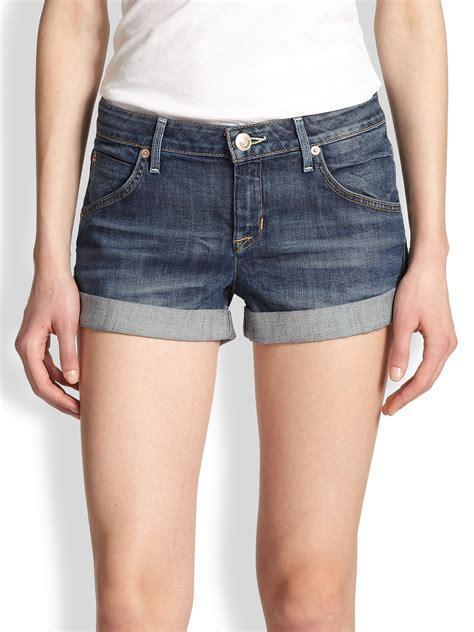short: (77, 99, 411, 344)
